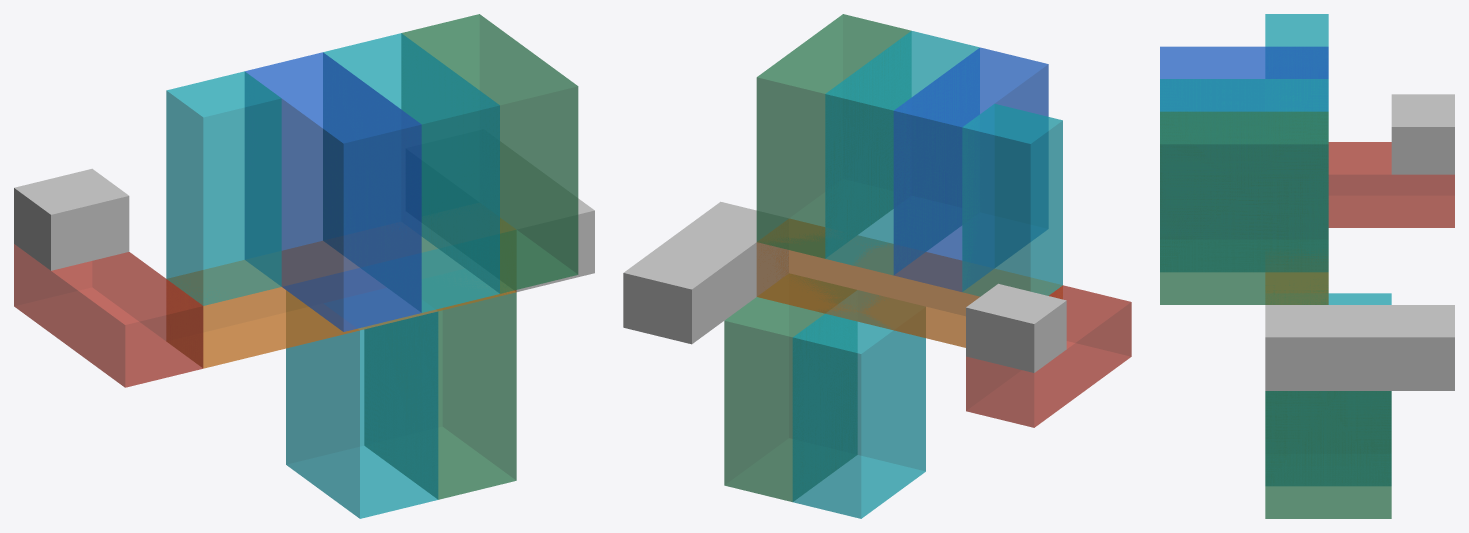
The model's file is slab_00.obj.
3 renders of one model, left to right at view 1: azimuth 30°, elevation 25°; view 2: azimuth 150°, elevation 25°; view 3: azimuth 270°, elevation 25°, orthographic. The views are drawn at different scales.
Visible parts, largest first — view 1: K_0_1, K_0_2, K_0_3, F_0_2, F_0_3, box_0_0, corridor_0, stair_W, entrance, stair_E; view 2: K_0_1, K_0_3, K_0_2, F_0_2, F_0_3, box_0_0, corridor_0, stair_E, stair_W, entrance; view 3: K_0_3, K_0_2, stair_E, F_0_3, F_0_2, K_0_1, stair_W, entrance, box_0_0, corridor_0.
Part boxes in pixels (<box>): K_0_1: <box>245,52,421,331</box>; K_0_2: <box>323,33,499,312</box>; K_0_3: <box>401,14,578,293</box>; F_0_2: <box>286,291,438,518</box>; F_0_3: <box>364,291,516,499</box>; box_0_0: <box>166,71,281,305</box>; corridor_0: <box>166,218,516,368</box>; stair_W: <box>14,244,203,387</box>; entrance: <box>14,168,129,270</box>; stair_E: <box>500,141,594,292</box>; K_0_1: <box>893,47,1048,291</box>; K_0_3: <box>756,14,911,258</box>; K_0_2: <box>825,30,979,275</box>; F_0_2: <box>792,290,925,518</box>; F_0_3: <box>724,273,857,501</box>; box_0_0: <box>962,103,1062,296</box>; corridor_0: <box>756,219,1062,347</box>; stair_E: <box>623,201,788,344</box>; stair_W: <box>966,285,1131,427</box>; entrance: <box>966,283,1066,372</box>; K_0_3: <box>1160,111,1328,304</box>; K_0_2: <box>1160,79,1328,271</box>; stair_E: <box>1265,305,1454,390</box>; F_0_3: <box>1265,391,1391,518</box>; F_0_2: <box>1265,293,1391,485</box>; K_0_1: <box>1160,46,1328,111</box>; stair_W: <box>1328,142,1454,227</box>; entrance: <box>1391,94,1454,174</box>; box_0_0: <box>1265,14,1328,78</box>; corridor_0: <box>1265,272,1328,304</box>.
Size of the model in its own units: 21.96 by 19.64 by 14.
